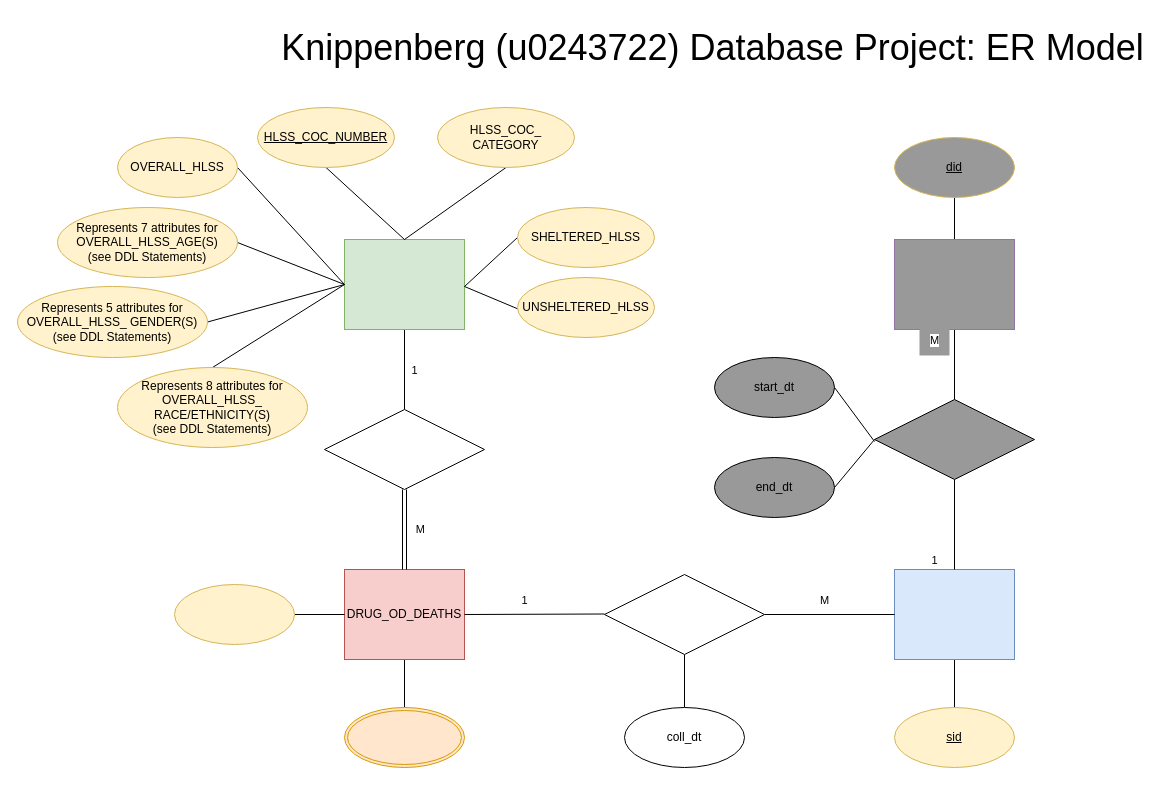
Some shapes in this 1175 by 785 pixel diagram are drawn without their labels. Here are the shapes that lost their labels. From the top down, the box of each, then its label:
(344, 238, 464, 330): HOMELESS_PIT
(894, 238, 1014, 330): DNA (Volume) (Yield) (Concentration)
(324, 408, 484, 490): Belongs
(874, 398, 1034, 480): Processes
(174, 584, 294, 644): pid
(604, 574, 764, 654): Collects
(894, 568, 1014, 660): SDOH_COUNTS
(344, 706, 464, 768): race
